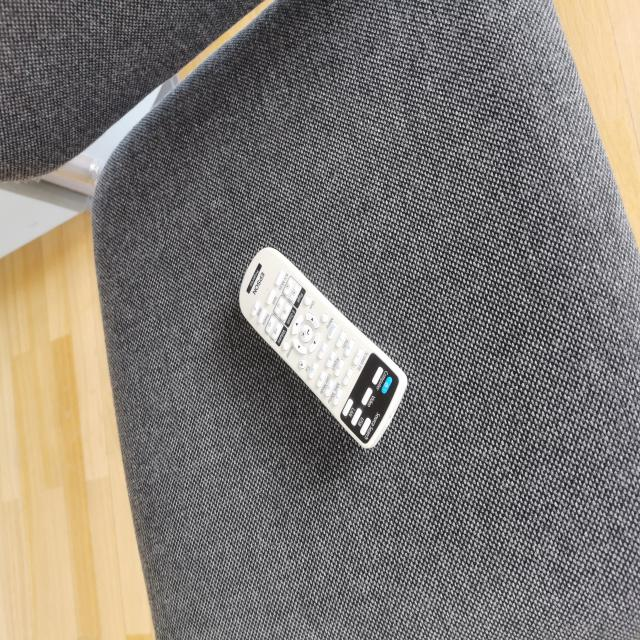remote: (236, 244, 411, 457)
